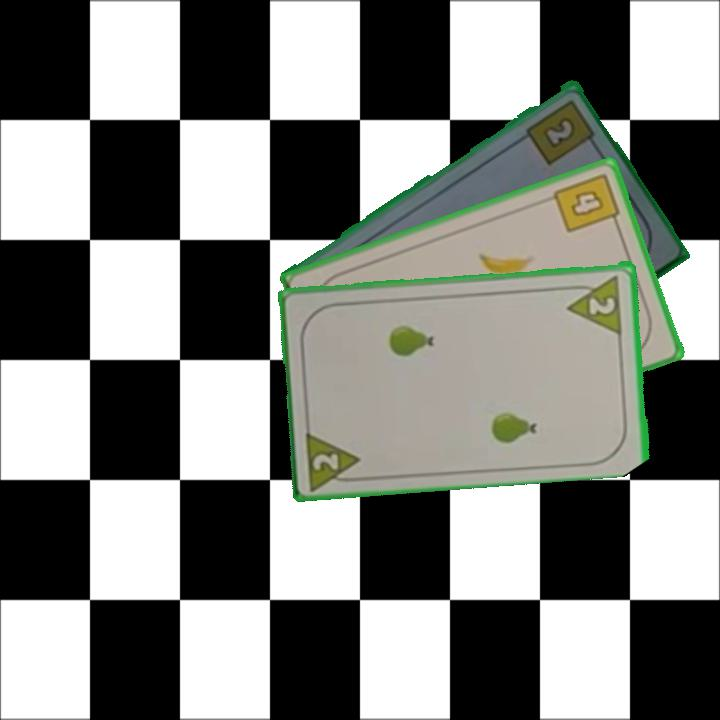2b: (522, 95, 599, 168)
2p: (302, 426, 366, 491), (563, 271, 626, 335)
4b: (550, 169, 623, 236)
